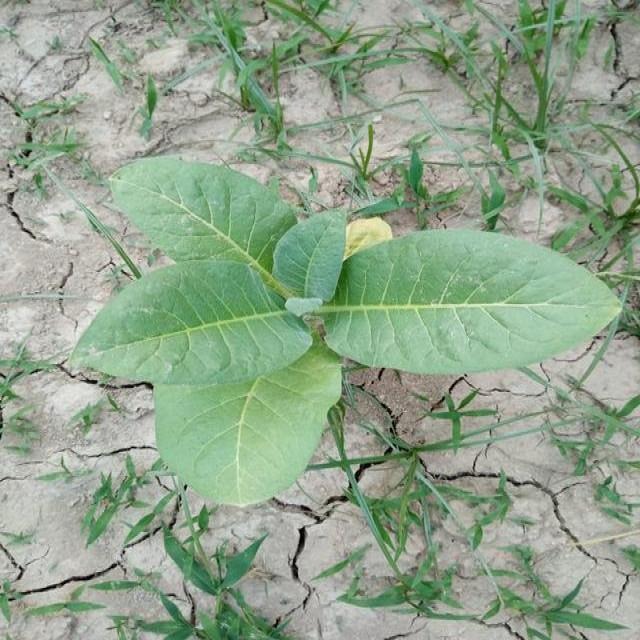crop: (99, 169, 613, 502)
